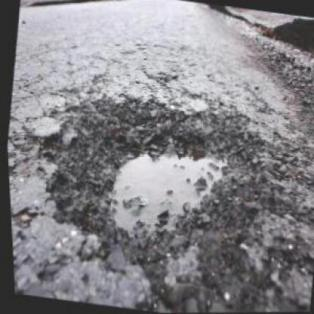Hueco: (28, 81, 278, 274)
